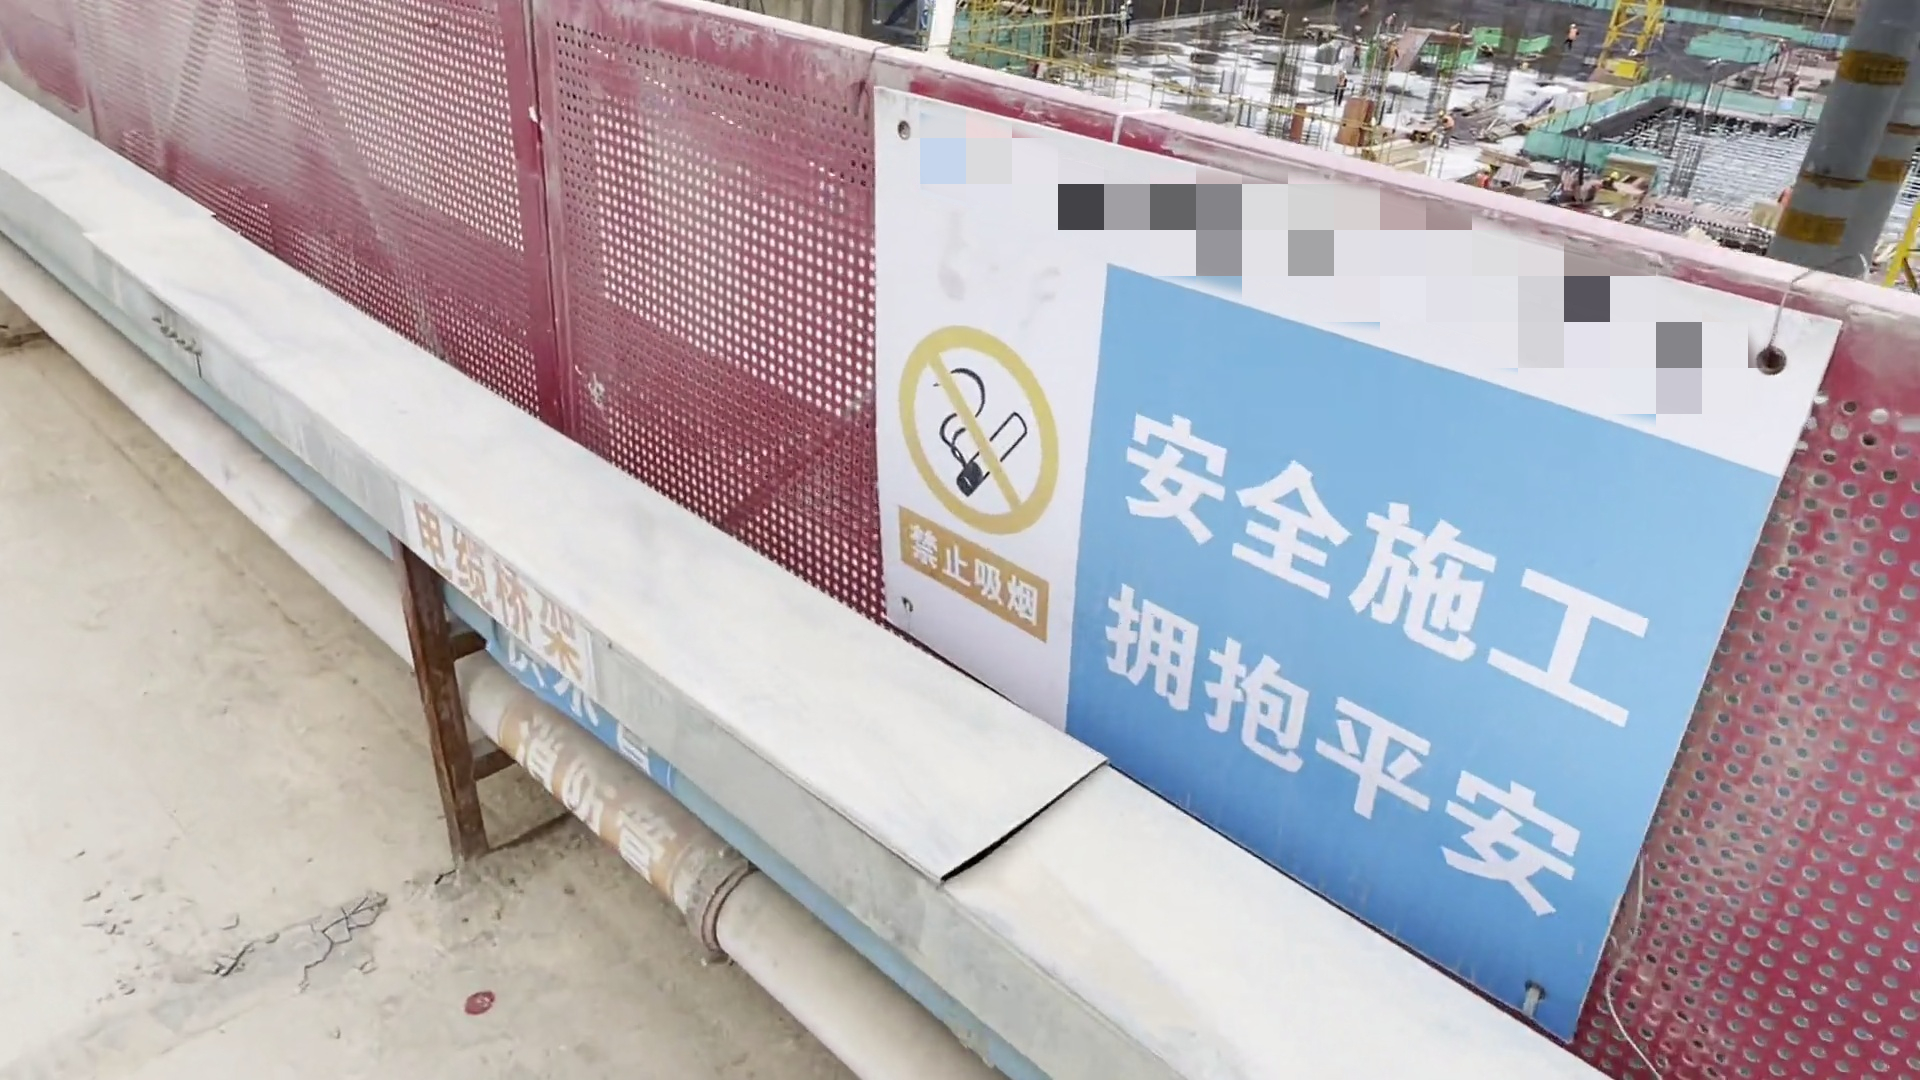slogan: (869, 54, 1788, 1054)
